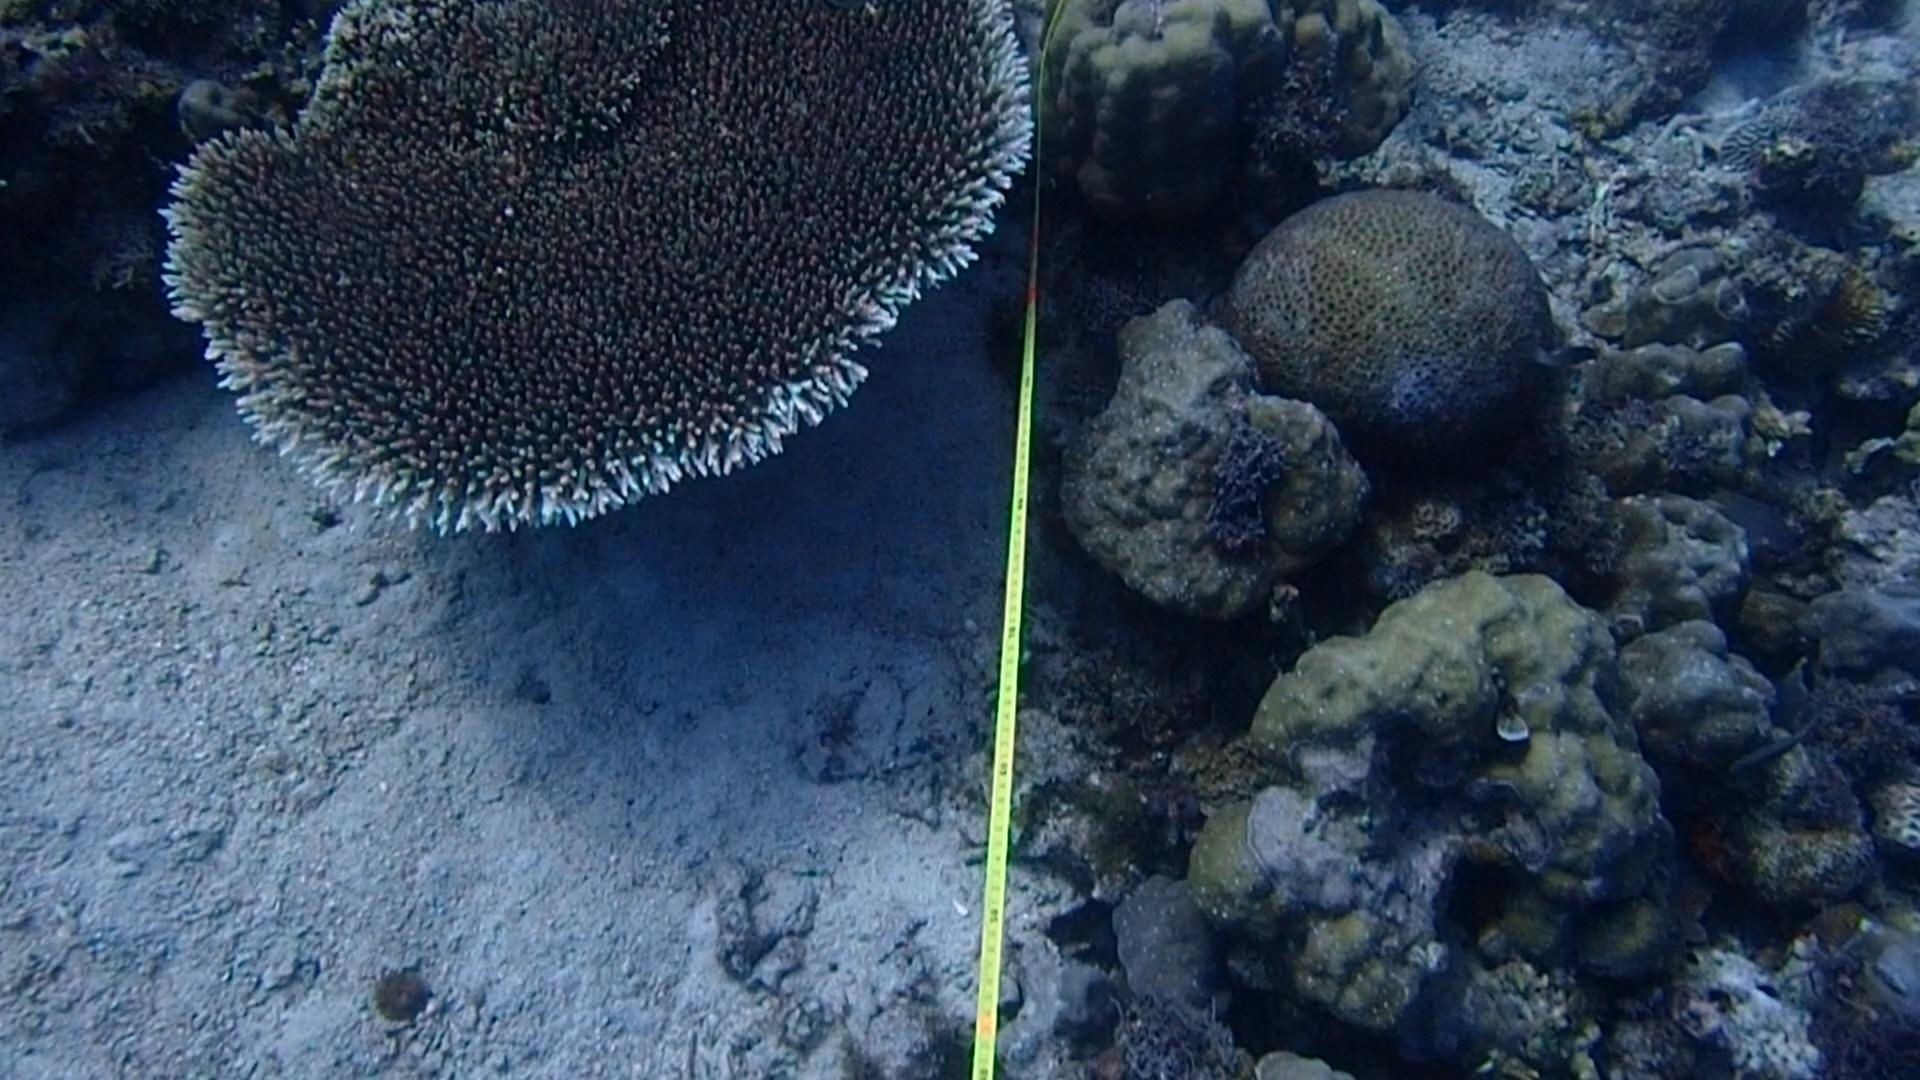Light Fish: (1709, 704, 1840, 786), (1523, 334, 1618, 386)
